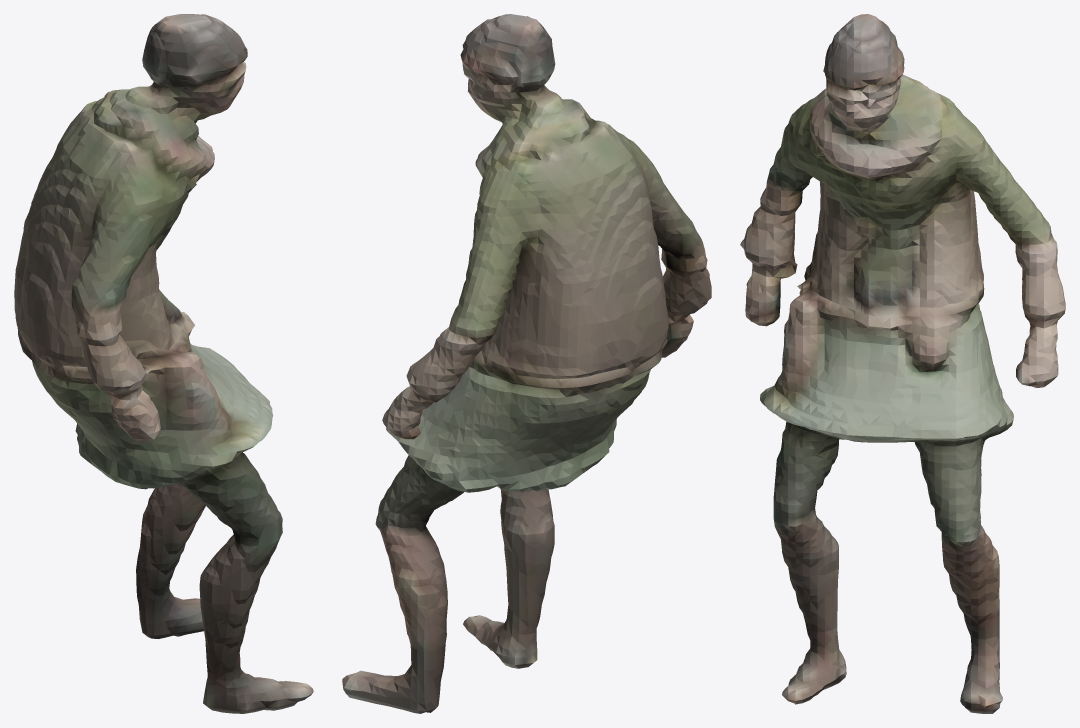
Rendered from hero_styleg_triposr_experiment.glb.
3 renders of one model, left to right at view 1: azimuth 30°, elevation 25°; view 2: azimuth 150°, elevation 25°; view 3: azimuth 270°, elevation 25°, orthographic. The views are drawn at different scales.
Parts seen in each view (by area): view 1: geometry_0; view 2: geometry_0; view 3: geometry_0.
Boxes of the visible parts, x1=… form: geometry_0: x1=14, y1=14, x2=313, y2=713; geometry_0: x1=342, y1=14, x2=711, y2=713; geometry_0: x1=740, y1=14, x2=1065, y2=713.
Size of the model in its own units: 0.7392 by 1.8 by 0.8188.
